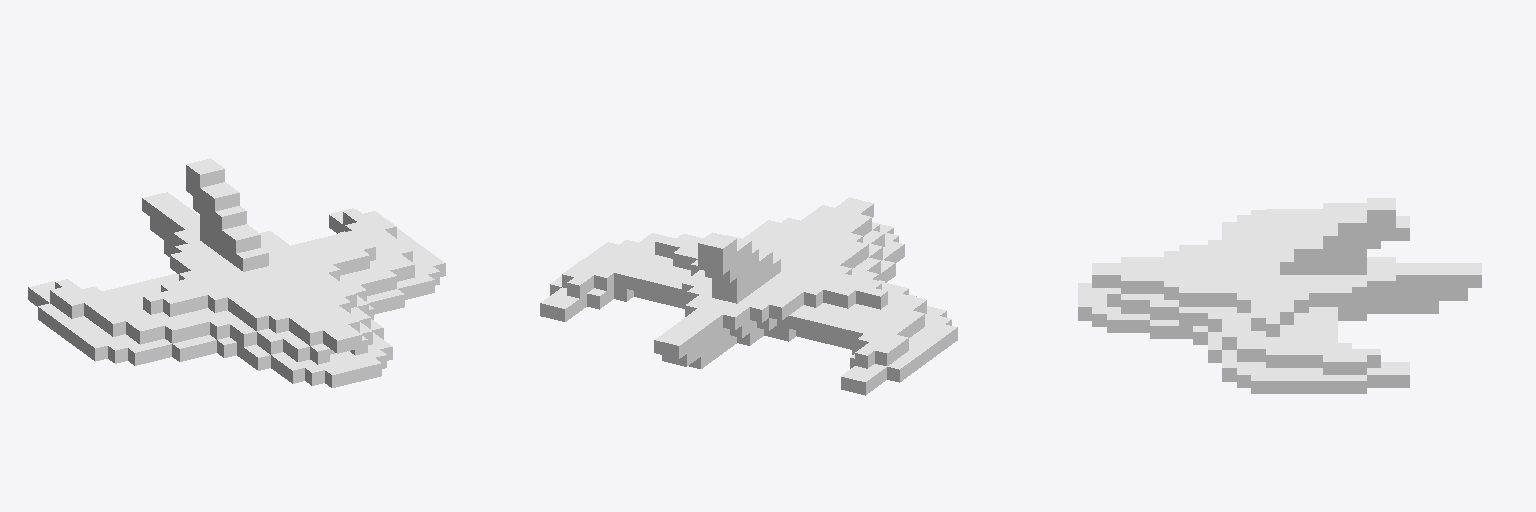
Rendered from JY_SM_Ship_1.obj.
3 views of the same model, side by side, from view 1: azimuth 30°, elevation 25°; view 2: azimuth 150°, elevation 25°; view 3: azimuth 270°, elevation 25° (orthographic).
Parts seen in each view (by area): view 1: JY_SM_Ship_1; view 2: JY_SM_Ship_1; view 3: JY_SM_Ship_1.
Part boxes in pixels (left/top/right/bottom): JY_SM_Ship_1: left=28, top=158, right=445, bottom=387; JY_SM_Ship_1: left=540, top=197, right=957, bottom=395; JY_SM_Ship_1: left=1078, top=198, right=1481, bottom=393.
Size of the model in its own units: 28 by 8 by 28.